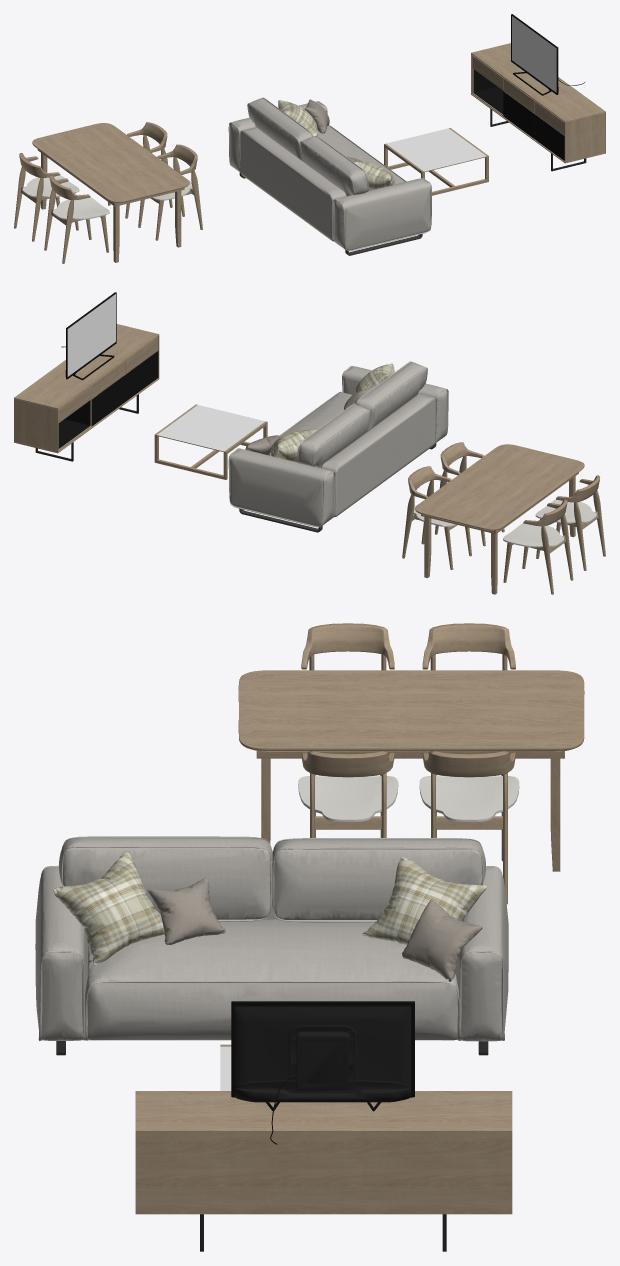
The model's file is salon.glb.
The picture shows the model from 3 angles, top to bottom: view 1: azimuth 30°, elevation 25°; view 2: azimuth 150°, elevation 25°; view 3: azimuth 270°, elevation 25°; orthographic projection. The views are drawn at different scales.
Parts seen in each view (by area): view 1: Seating_Sofas_Piping-Thick_01, Tables_Dining-Sets_Mid-Century-Modern_01, Storage_Sideboards_Wooden-Modern_02, Tables_Coffee-Tables_Wood_01, Electronics_Screens_TV-Medium_01_Stand, Tables_Dining-Sets_Mid-Century-Modern_01.004, Tables_Dining-Sets_Mid-Century-Modern_01.002, Tables_Dining-Sets_Mid-Century-Modern_01.003, Tables_Dining-Sets_Mid-Century-Modern_01.001, Storage_Sideboards_Wooden-Modern_02_DrawerL, Storage_Sideboards_Wooden-Modern_02_DrawerM, Storage_Sideboards_Wooden-Modern_02_DrawerR; view 2: Seating_Sofas_Piping-Thick_01, Tables_Dining-Sets_Mid-Century-Modern_01, Storage_Sideboards_Wooden-Modern_02, Tables_Coffee-Tables_Wood_01, Electronics_Screens_TV-Medium_01_Stand, Tables_Dining-Sets_Mid-Century-Modern_01.002, Tables_Dining-Sets_Mid-Century-Modern_01.004, Tables_Dining-Sets_Mid-Century-Modern_01.001, Tables_Dining-Sets_Mid-Century-Modern_01.003, Storage_Sideboards_Wooden-Modern_02_DrawerL, Storage_Sideboards_Wooden-Modern_02_DrawerR, Storage_Sideboards_Wooden-Modern_02_DrawerM; view 3: Seating_Sofas_Piping-Thick_01, Storage_Sideboards_Wooden-Modern_02, Tables_Dining-Sets_Mid-Century-Modern_01, Electronics_Screens_TV-Medium_01_Stand, Tables_Dining-Sets_Mid-Century-Modern_01.001, Tables_Dining-Sets_Mid-Century-Modern_01.003, Tables_Dining-Sets_Mid-Century-Modern_01.002, Tables_Dining-Sets_Mid-Century-Modern_01.004.
Boxes of the visible parts, <box> form: Seating_Sofas_Piping-Thick_01: <box>228,97,431,255</box>; Tables_Dining-Sets_Mid-Century-Modern_01: <box>32,123,189,262</box>; Storage_Sideboards_Wooden-Modern_02: <box>471,43,605,171</box>; Tables_Coffee-Tables_Wood_01: <box>384,128,488,195</box>; Electronics_Screens_TV-Medium_01_Stand: <box>511,14,584,95</box>; Tables_Dining-Sets_Mid-Century-Modern_01.004: <box>44,175,109,263</box>; Tables_Dining-Sets_Mid-Century-Modern_01.002: <box>14,153,79,241</box>; Tables_Dining-Sets_Mid-Century-Modern_01.003: <box>138,144,202,240</box>; Tables_Dining-Sets_Mid-Century-Modern_01.001: <box>108,122,172,218</box>; Storage_Sideboards_Wooden-Modern_02_DrawerL: <box>472,55,503,89</box>; Storage_Sideboards_Wooden-Modern_02_DrawerM: <box>503,78,534,112</box>; Storage_Sideboards_Wooden-Modern_02_DrawerR: <box>534,100,564,134</box>; Seating_Sofas_Piping-Thick_01: <box>228,361,448,532</box>; Tables_Dining-Sets_Mid-Century-Modern_01: <box>415,444,584,594</box>; Storage_Sideboards_Wooden-Modern_02: <box>14,324,159,461</box>; Tables_Coffee-Tables_Wood_01: <box>154,404,267,479</box>; Electronics_Screens_TV-Medium_01_Stand: <box>61,292,116,380</box>; Tables_Dining-Sets_Mid-Century-Modern_01.002: <box>503,499,573,594</box>; Tables_Dining-Sets_Mid-Century-Modern_01.004: <box>535,475,605,570</box>; Tables_Dining-Sets_Mid-Century-Modern_01.001: <box>402,466,471,569</box>; Tables_Dining-Sets_Mid-Century-Modern_01.003: <box>435,442,504,546</box>; Storage_Sideboards_Wooden-Modern_02_DrawerL: <box>58,385,91,422</box>; Storage_Sideboards_Wooden-Modern_02_DrawerR: <box>125,336,158,374</box>; Storage_Sideboards_Wooden-Modern_02_DrawerM: <box>91,361,124,398</box>; Seating_Sofas_Piping-Thick_01: <box>35,836,508,1055</box>; Storage_Sideboards_Wooden-Modern_02: <box>135,1091,512,1251</box>; Tables_Dining-Sets_Mid-Century-Modern_01: <box>238,670,584,871</box>; Electronics_Screens_TV-Medium_01_Stand: <box>231,1001,414,1144</box>; Tables_Dining-Sets_Mid-Century-Modern_01.001: <box>419,750,519,904</box>; Tables_Dining-Sets_Mid-Century-Modern_01.003: <box>298,750,398,837</box>; Tables_Dining-Sets_Mid-Century-Modern_01.002: <box>422,623,515,775</box>; Tables_Dining-Sets_Mid-Century-Modern_01.004: <box>301,623,394,812</box>.
Size of the model in its own units: 6.19 by 1.32 by 2.86.
14 materials, 4 textured.
